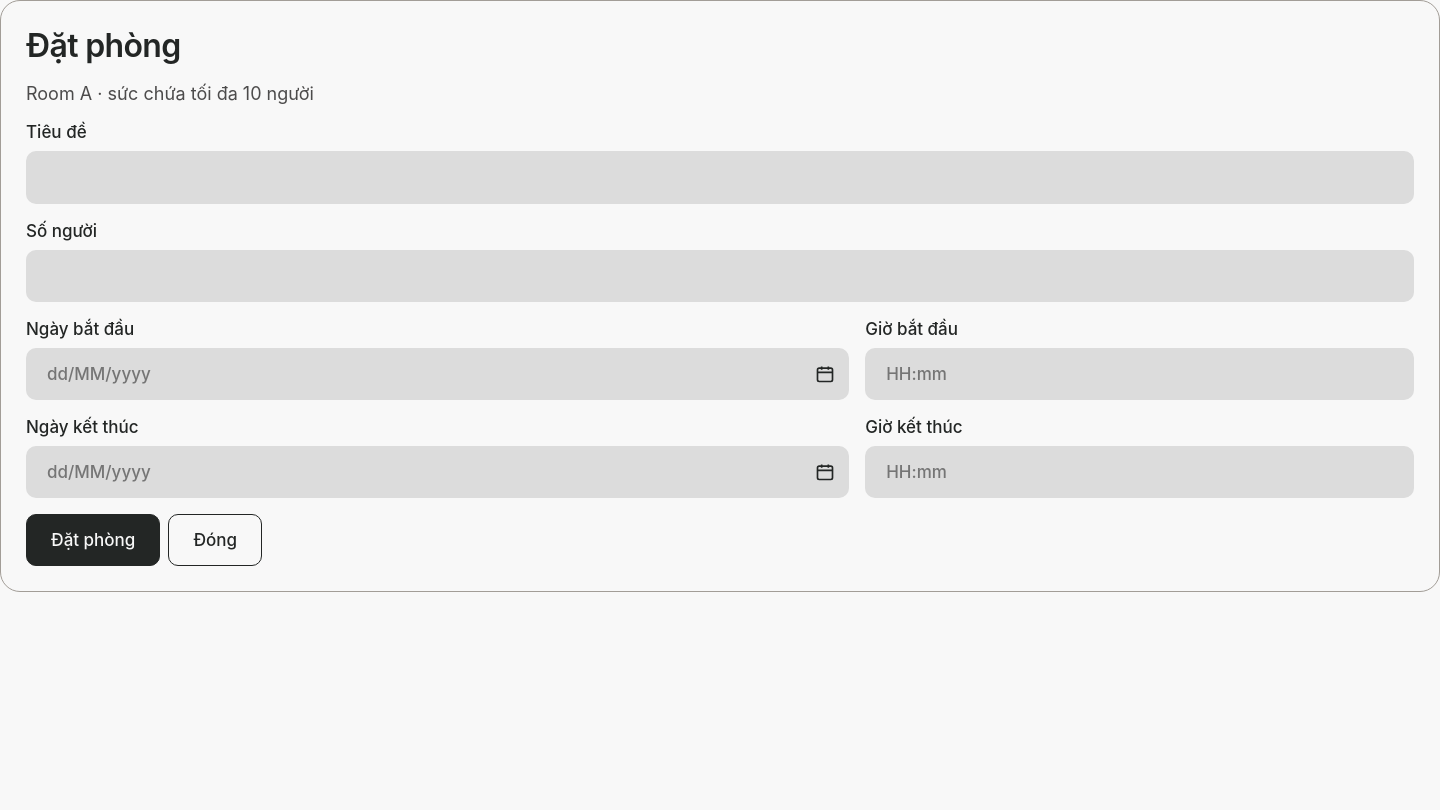
it: BookingForm: đặt mới (A3) › mã 93 báo trùng giờ và yêu cầu cha tải lại lịch
The width and height of the screenshot is (1440, 810).
In the field labelled "Tiêu đề": (720, 178) top-left (26, 152), bottom-right (1414, 204), type "Họp"
In the field labelled "Số người": (720, 276) top-left (26, 250), bottom-right (1414, 302), type "5"
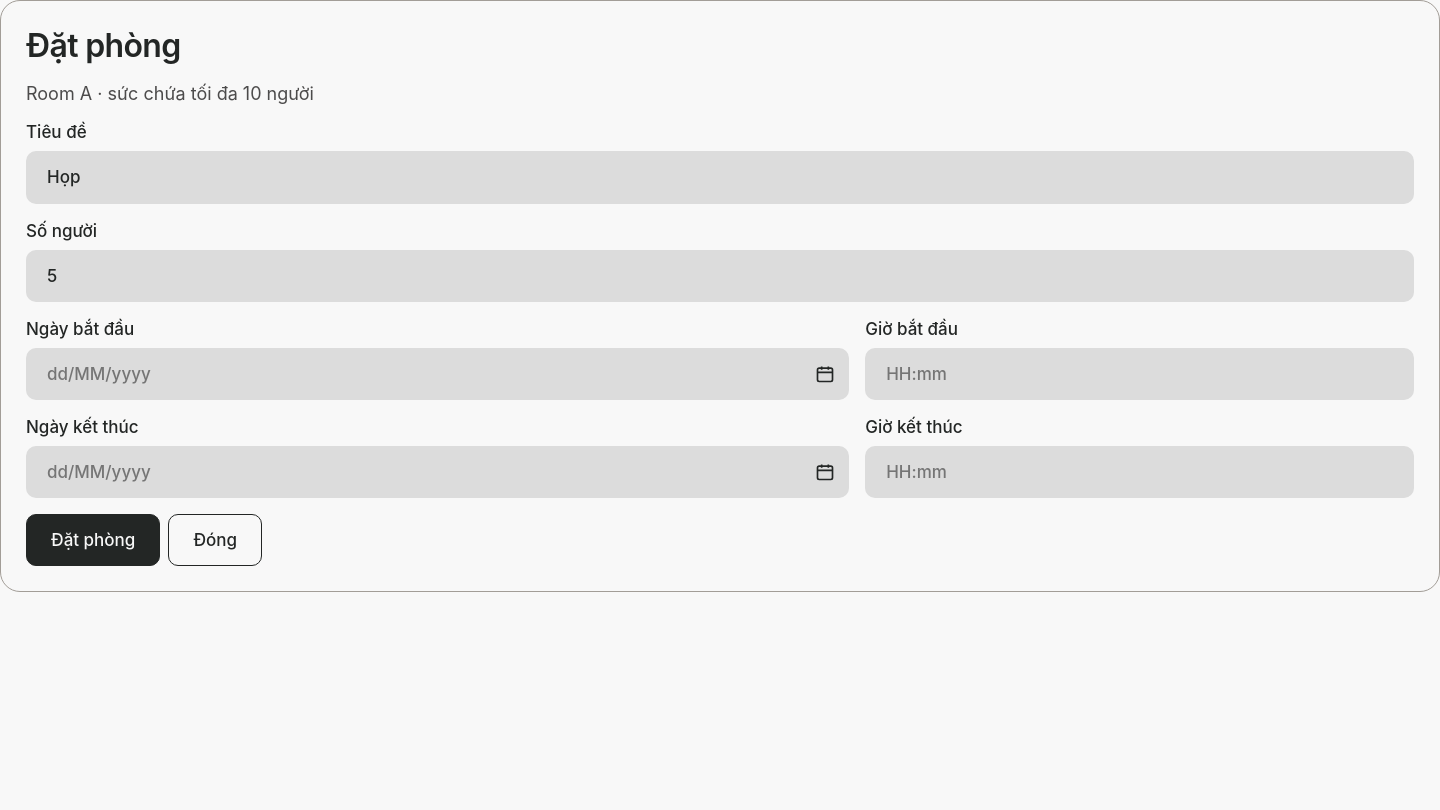
In the field labelled "Ngày bắt đầu": (438, 374) top-left (26, 348), bottom-right (849, 400), type "22/10/2026"
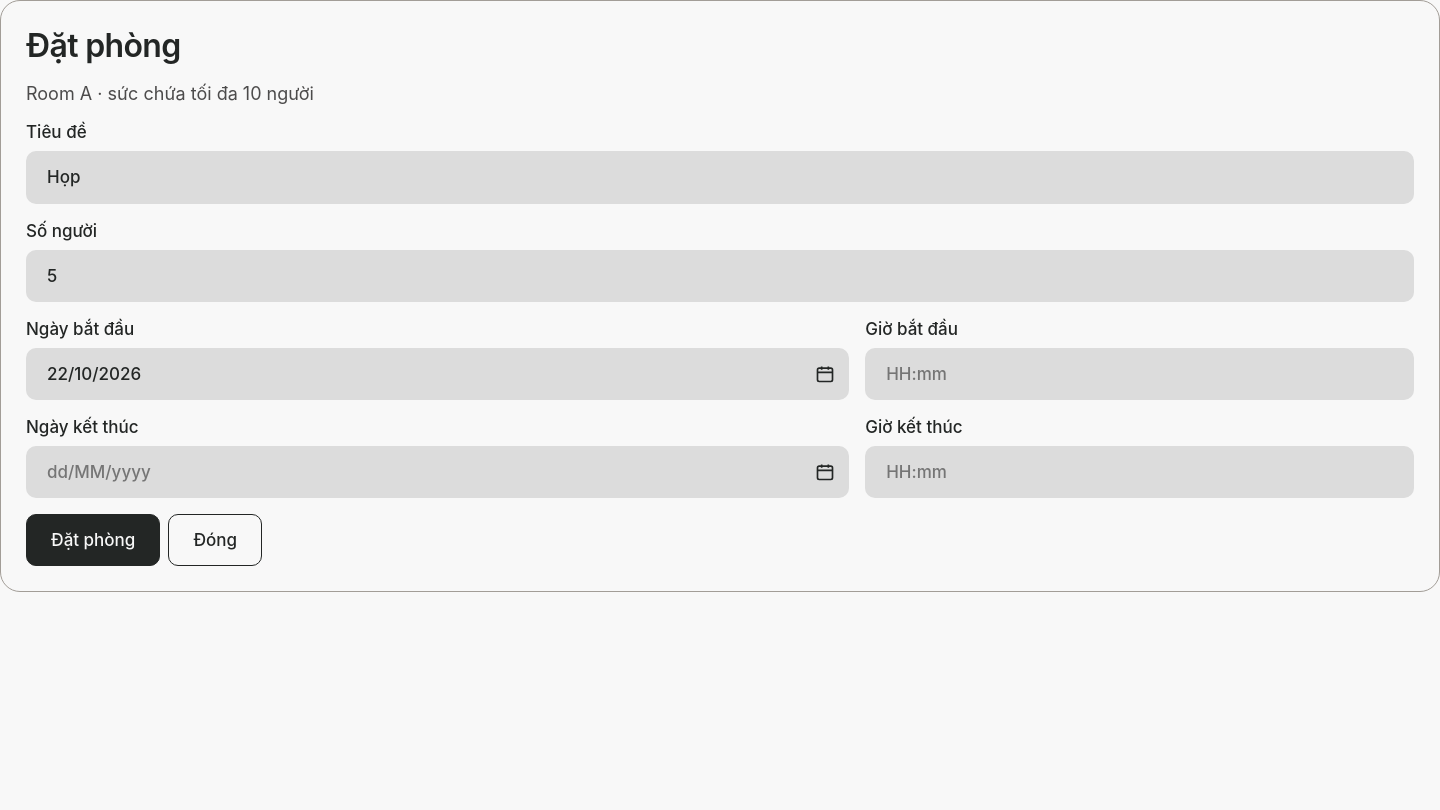
In the field labelled "Giờ bắt đầu": (1140, 374) top-left (865, 348), bottom-right (1414, 400), type "09:00"
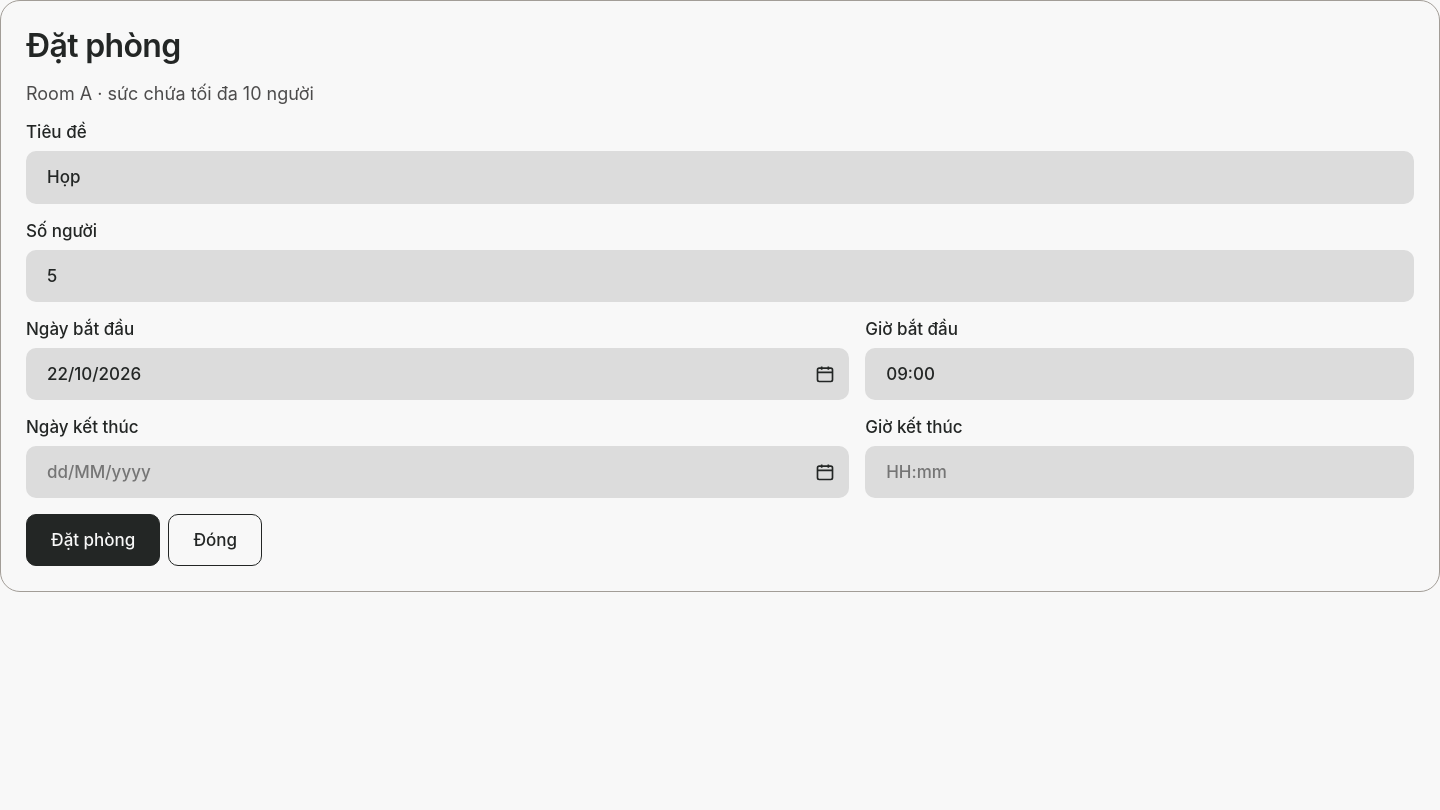
In the field labelled "Ngày kết thúc": (438, 472) top-left (26, 446), bottom-right (849, 498), type "22/10/2026"
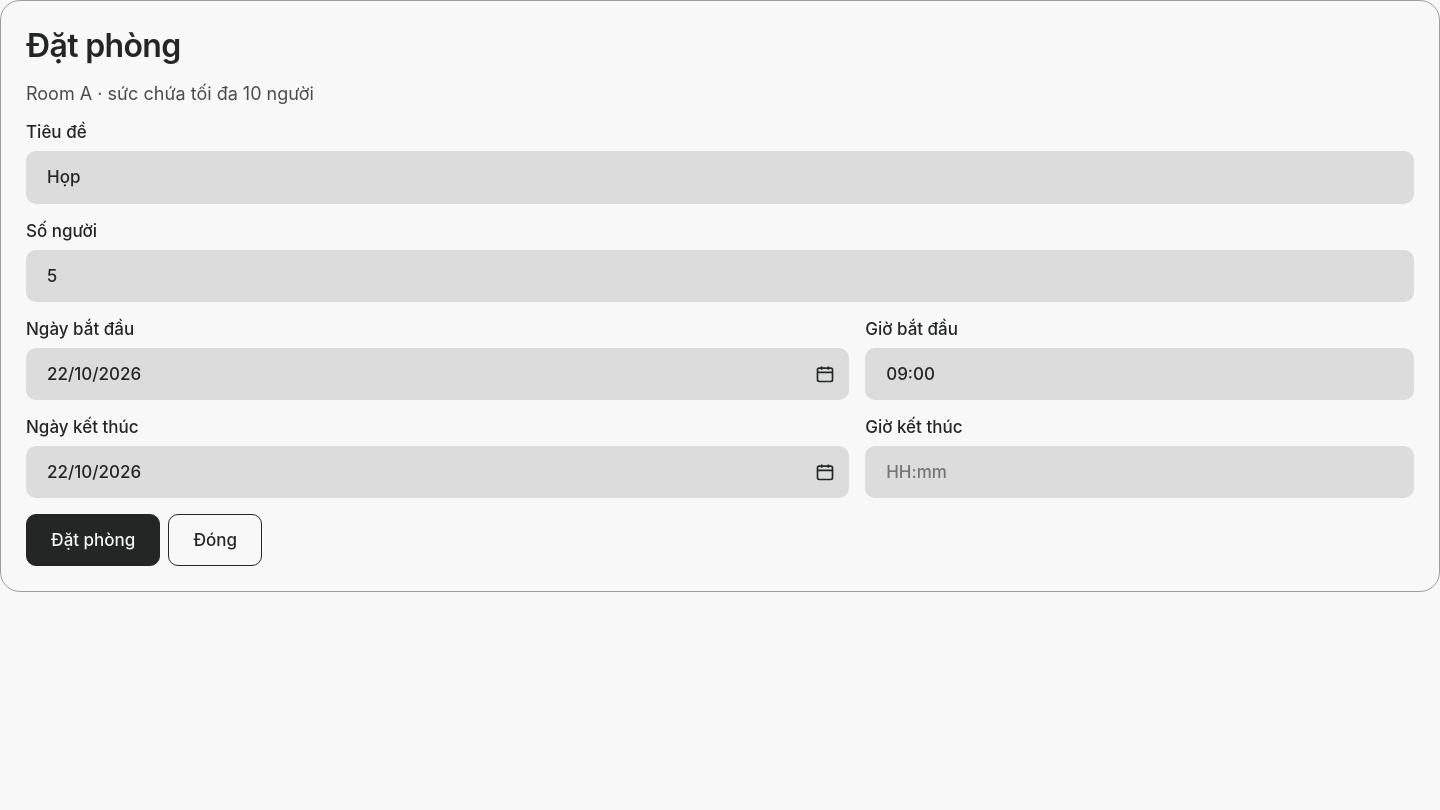
In the field labelled "Giờ kết thúc": (1140, 472) top-left (865, 446), bottom-right (1414, 498), type "10:00"
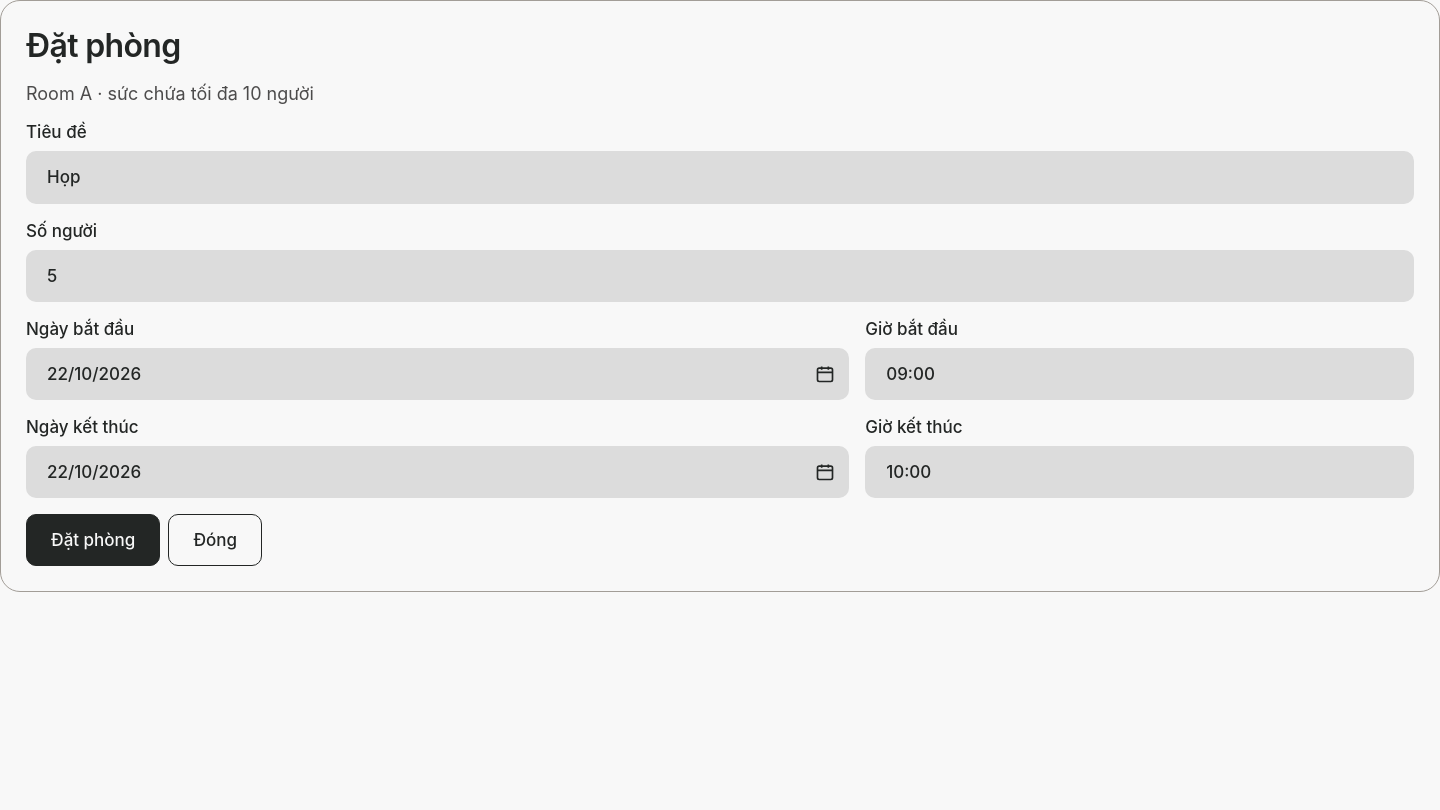
Click the button "Đặt phòng": click(93, 540) top-left (26, 514), bottom-right (160, 566)
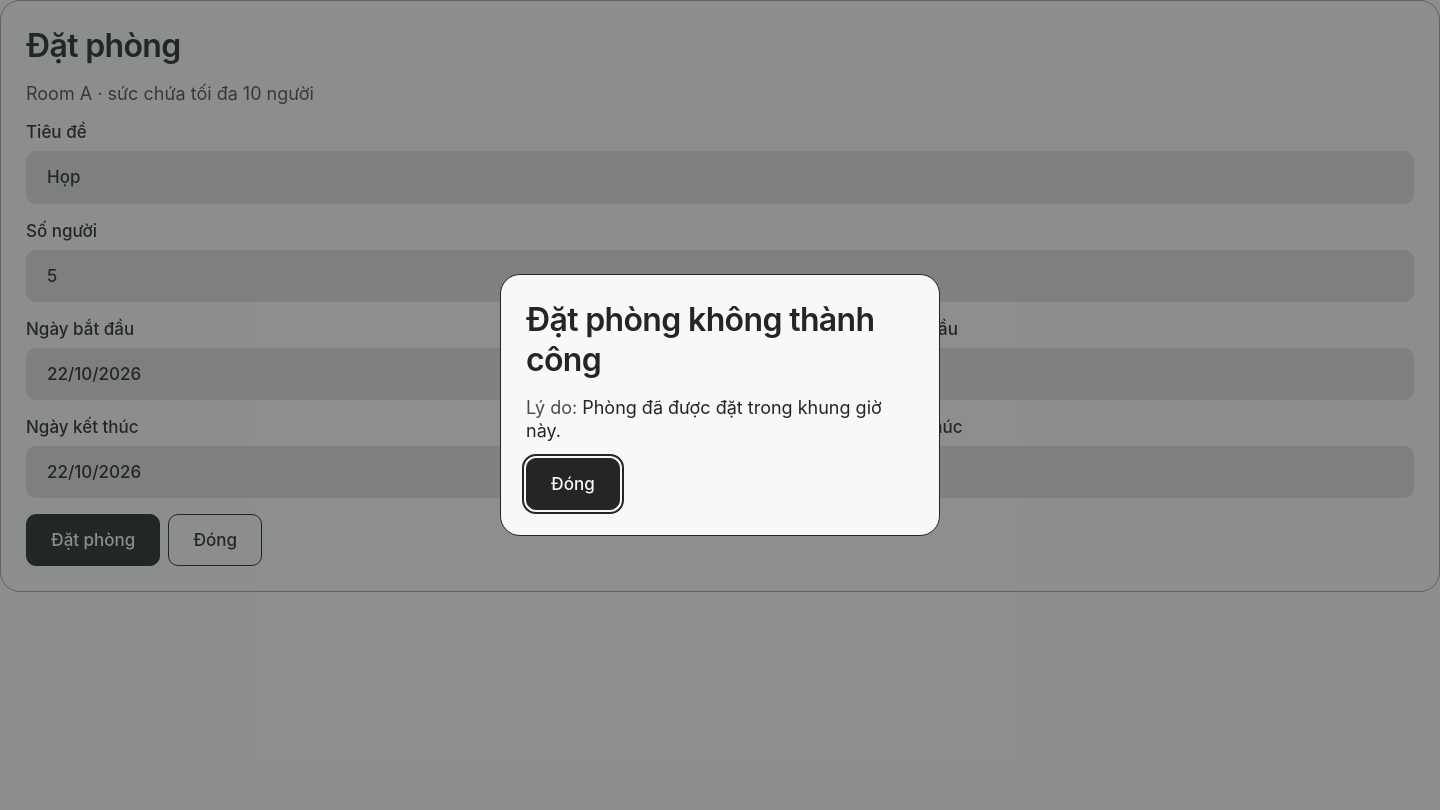
Check: the dialog shows "Đặt phòng không thành công", box top-left (526, 300), bottom-right (874, 379)
Check: the dialog shows "Phòng đã được đặt trong khung giờ này.", box top-left (526, 397), bottom-right (882, 441)
